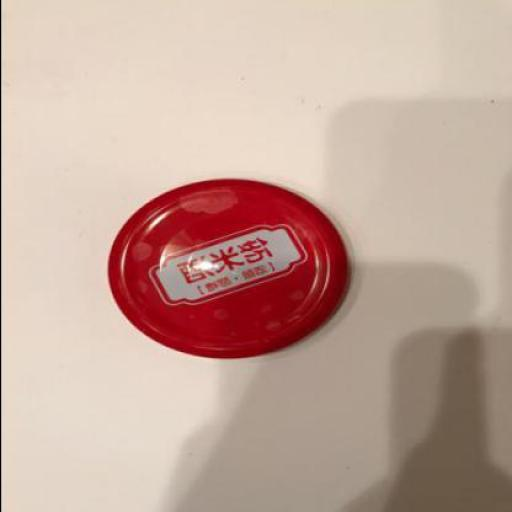metal: (104, 178, 348, 359)
